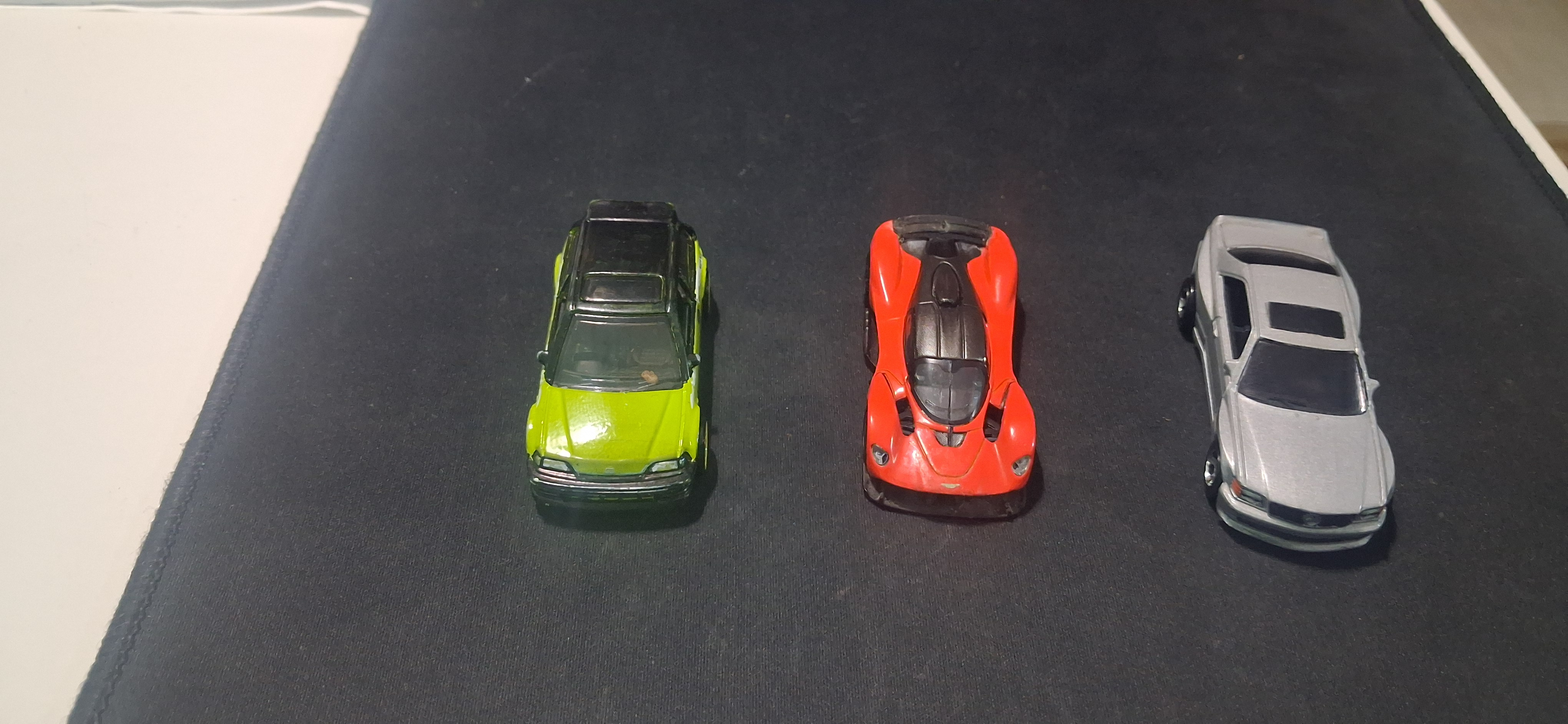Aston_Martin_Valkyrie: (819, 169, 1060, 563)
Honda_Civic: (482, 157, 751, 559)
Mercedes_Benz_560_SEC_AMG: (1152, 191, 1443, 604)
